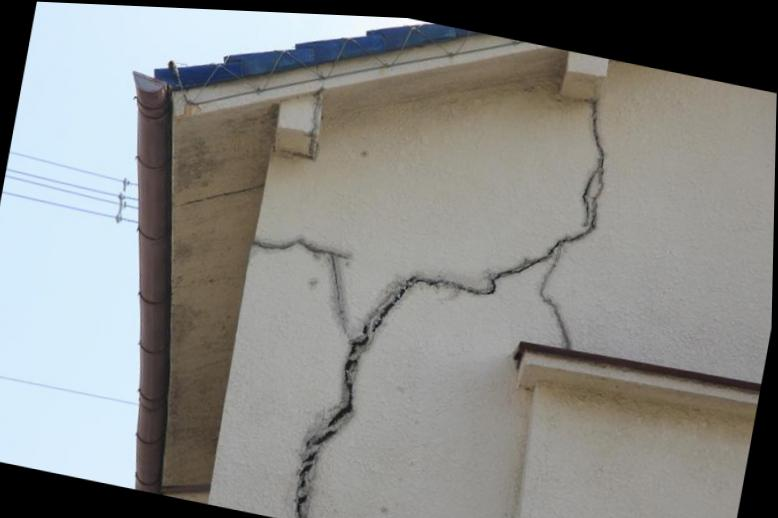crack: (252, 97, 605, 518), (282, 89, 322, 159)
